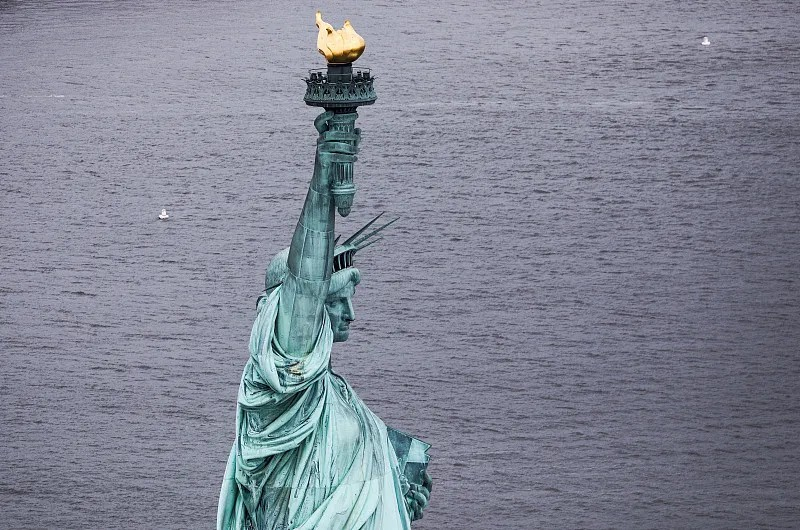SL: (216, 11, 433, 530)
